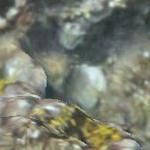alive: (4, 6, 147, 148)
